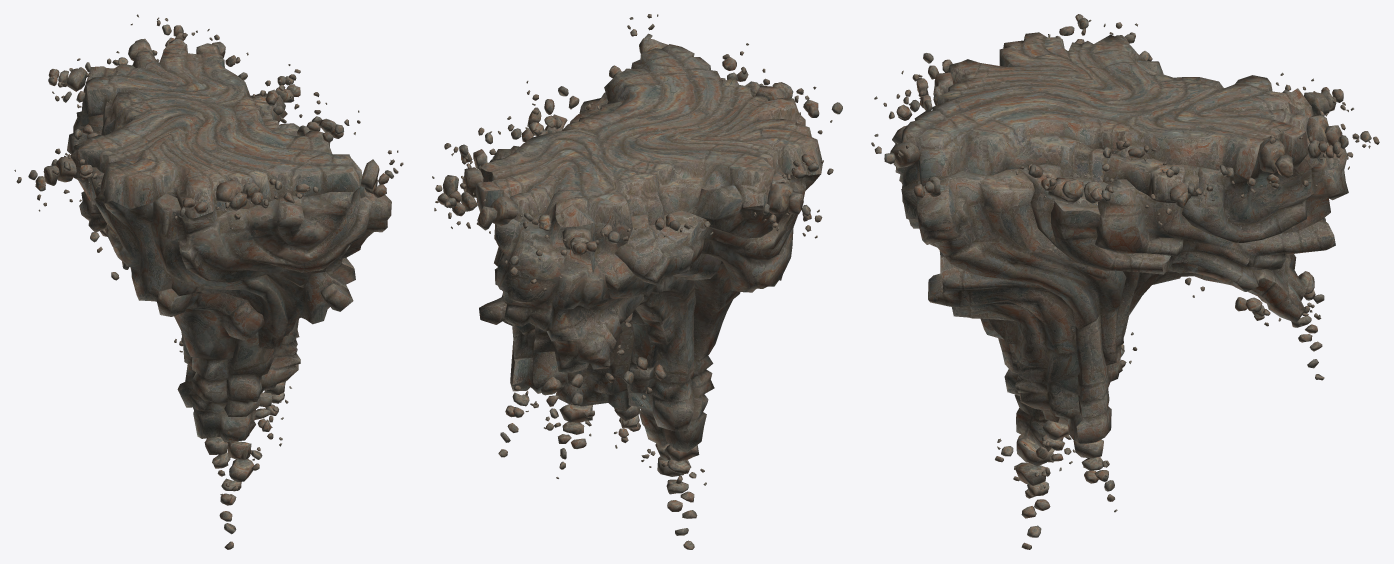
The model's file is bg_rad_kamen_rockfloor01a_sm.obj.
3 renders of one model, left to right at view 1: azimuth 30°, elevation 25°; view 2: azimuth 150°, elevation 25°; view 3: azimuth 270°, elevation 25°, orthographic. The views are drawn at different scales.
Parts seen in each view (by area): view 1: bg_rad_kamen_rockfloor01a_sm_1, bg_rad_kamen_rockfloor01a_sm_0, bg_rad_kamen_rockfloor01a_sm_2; view 2: bg_rad_kamen_rockfloor01a_sm_1, bg_rad_kamen_rockfloor01a_sm_0, bg_rad_kamen_rockfloor01a_sm_2; view 3: bg_rad_kamen_rockfloor01a_sm_0, bg_rad_kamen_rockfloor01a_sm_2, bg_rad_kamen_rockfloor01a_sm_1.
Part boxes in pixels (<box>): bg_rad_kamen_rockfloor01a_sm_1: <box>67,79,371,442</box>; bg_rad_kamen_rockfloor01a_sm_0: <box>70,43,391,390</box>; bg_rad_kamen_rockfloor01a_sm_2: <box>14,14,403,549</box>; bg_rad_kamen_rockfloor01a_sm_1: <box>494,170,820,452</box>; bg_rad_kamen_rockfloor01a_sm_0: <box>475,44,822,391</box>; bg_rad_kamen_rockfloor01a_sm_2: <box>432,14,842,549</box>; bg_rad_kamen_rockfloor01a_sm_0: <box>901,32,1335,442</box>; bg_rad_kamen_rockfloor01a_sm_2: <box>871,14,1379,549</box>; bg_rad_kamen_rockfloor01a_sm_1: <box>892,60,1348,451</box>.
Bounding box in the file's own units: 4.41 × 5.43 × 5.3.
3 materials, 3 textured.
